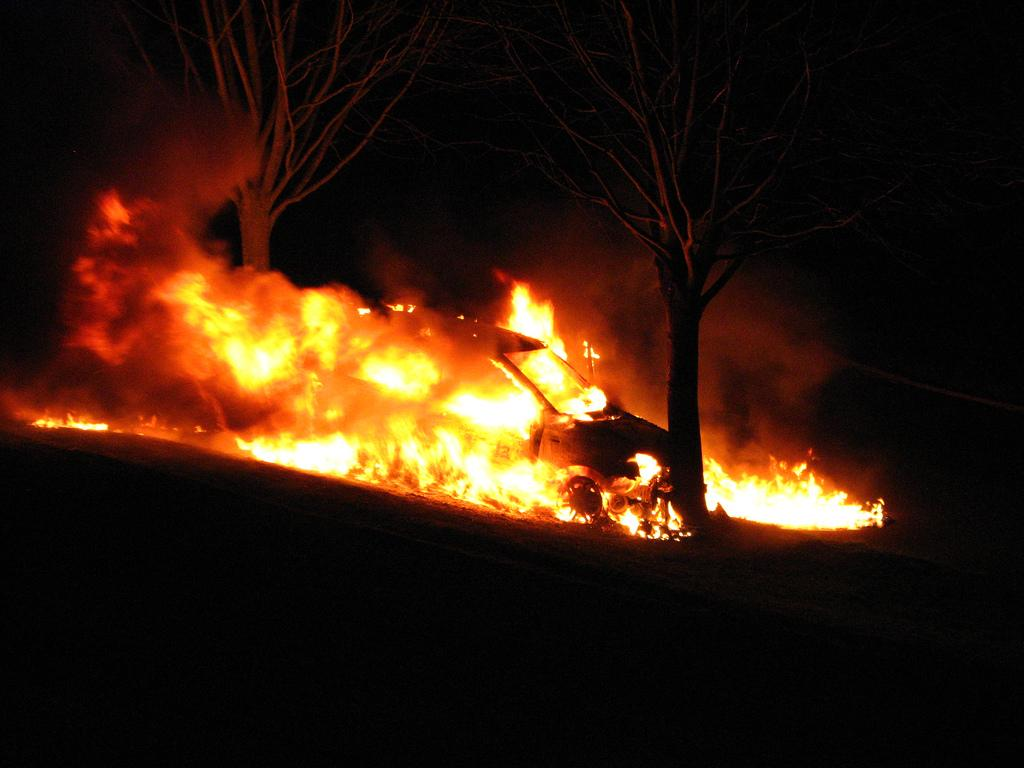fire: (190, 288, 344, 396), (432, 382, 540, 508), (710, 478, 866, 530), (256, 426, 372, 482)
